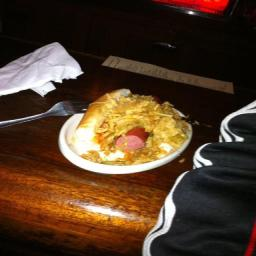hotdog: (111, 129, 155, 151)
